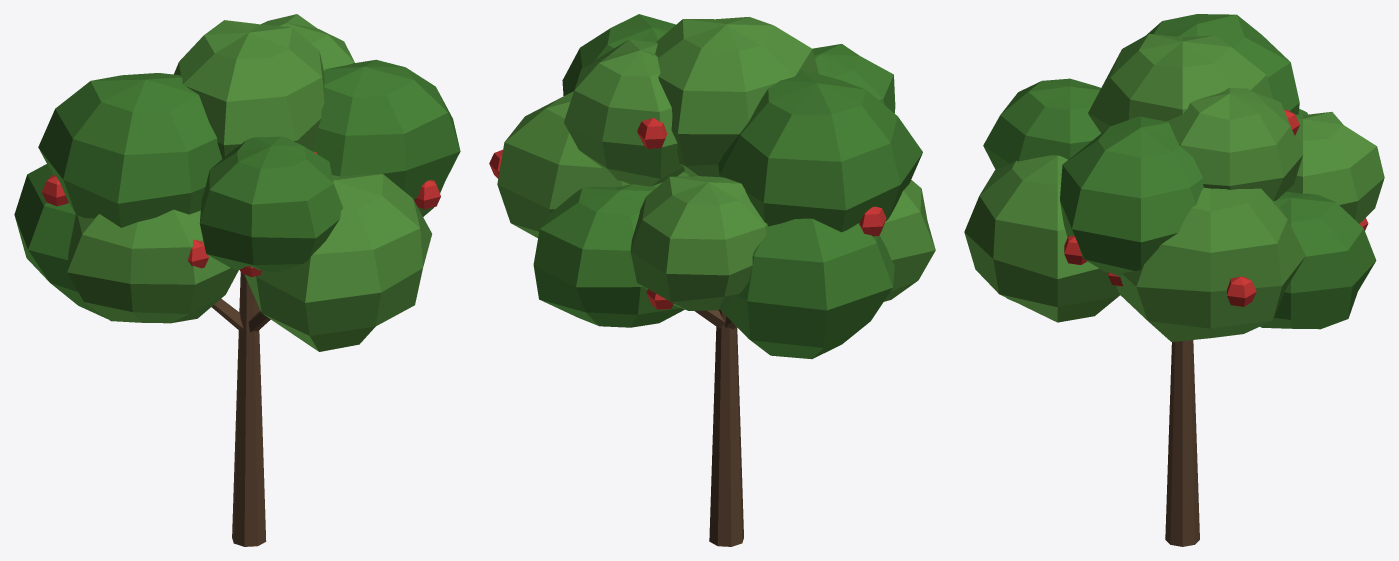
Rendered from tree_apple_small.glb.
3 views of the same model, side by side, from view 1: azimuth 30°, elevation 25°; view 2: azimuth 150°, elevation 25°; view 3: azimuth 270°, elevation 25° (orthographic). The views are drawn at different scales.
Parts seen in each view (by area): view 1: tree_apple_small; view 2: tree_apple_small; view 3: tree_apple_small.
Boxes of the visible parts, x1,y1,x2,y2 form: tree_apple_small: (14,14,460,546); tree_apple_small: (489,14,935,546); tree_apple_small: (964,14,1384,546).
Size of the model in its own units: 3.66 by 4.49 by 3.43.
